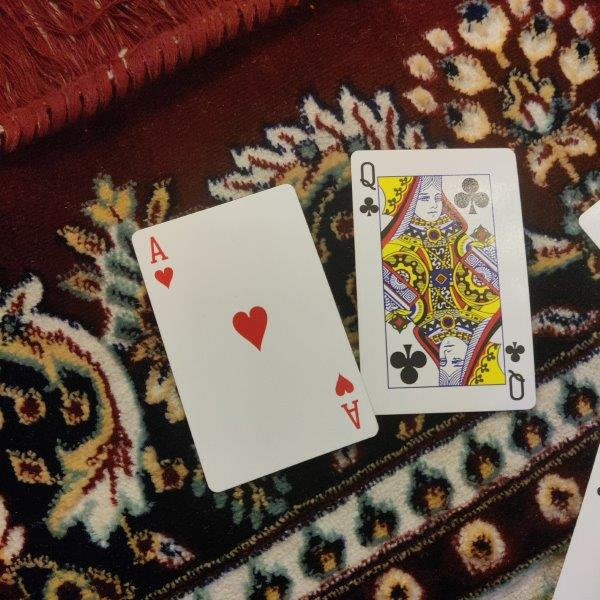Ace of Hearts: (132, 183, 381, 492)
Queen of Clubs: (351, 148, 537, 416)
